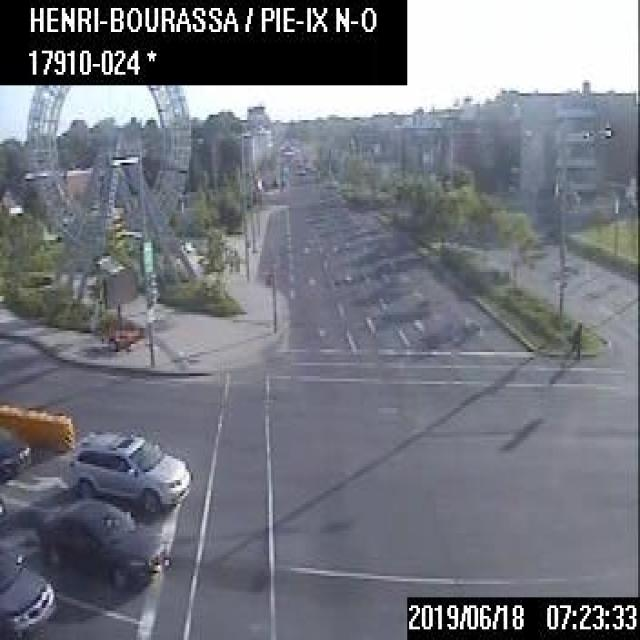construction: (102, 268, 138, 349)
pedestrian: (565, 323, 582, 365)
vehicle: (36, 498, 171, 586), (69, 427, 189, 509), (0, 550, 55, 638), (0, 432, 29, 483)
